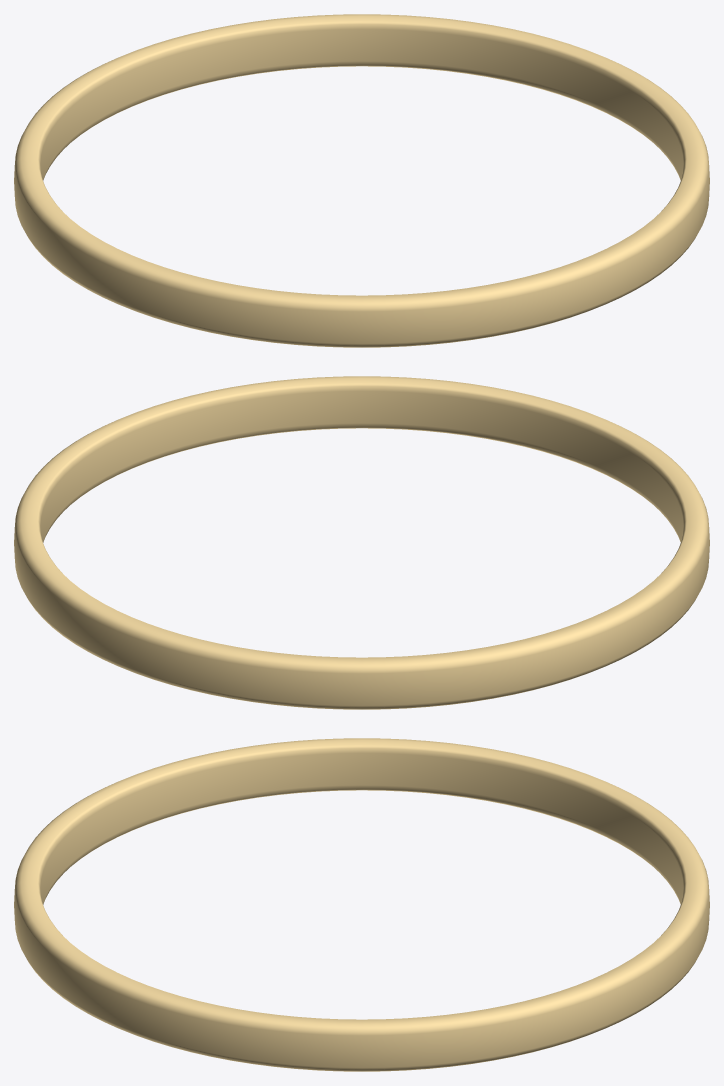
File: BangleGold.obj
3 views of the same model, one above another, from view 1: azimuth 30°, elevation 25°; view 2: azimuth 150°, elevation 25°; view 3: azimuth 270°, elevation 25° (orthographic).
Visible parts, largest first — view 1: Gold18k; view 2: Gold18k; view 3: Gold18k.
Boxes of the visible parts, x1=… form: Gold18k: x1=14, y1=14, x2=709, y2=347; Gold18k: x1=14, y1=376, x2=709, y2=709; Gold18k: x1=14, y1=738, x2=709, y2=1071.
Bounding box in the file's own units: 0.0672 × 0.005 × 0.0672.
